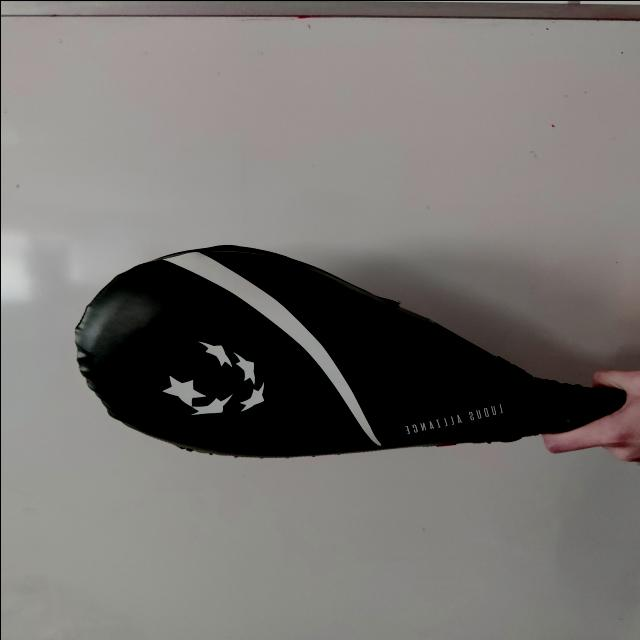paddle: (72, 243, 617, 458)
